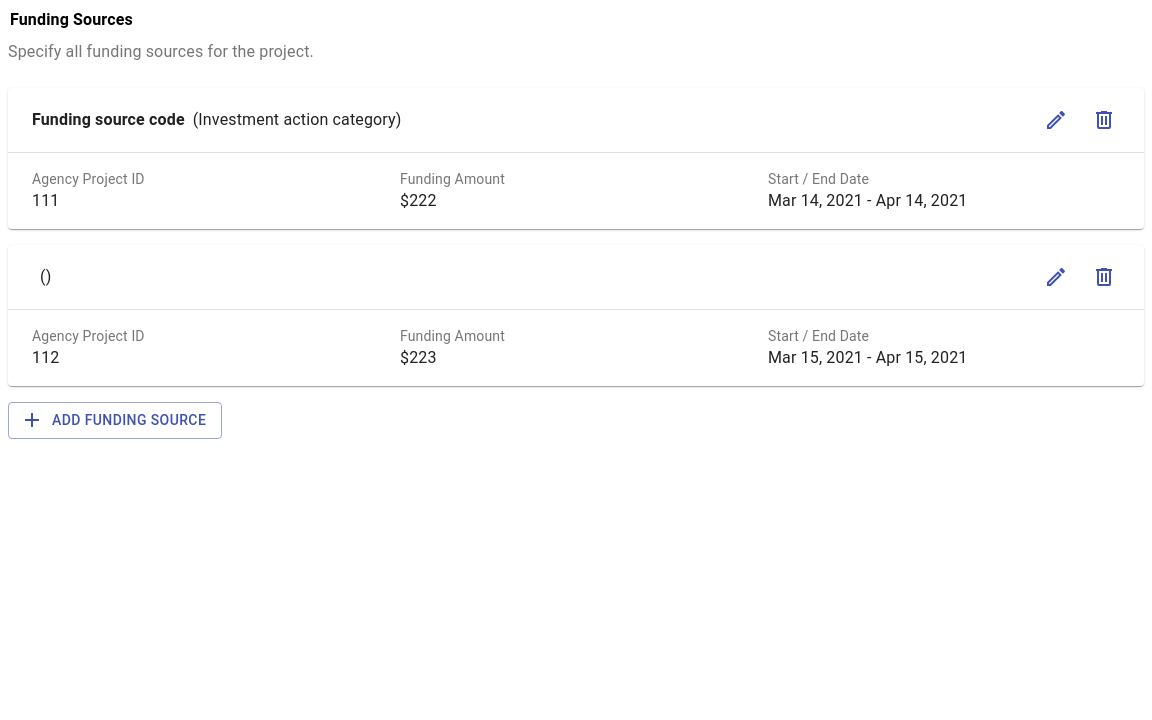
Test: ProjectFundingForm › shows add funding source dialog on add click
The width and height of the screenshot is (1152, 720).
Click the button with test id "add-funding-source-button" at x=115, y=420, box [8, 402, 222, 438]
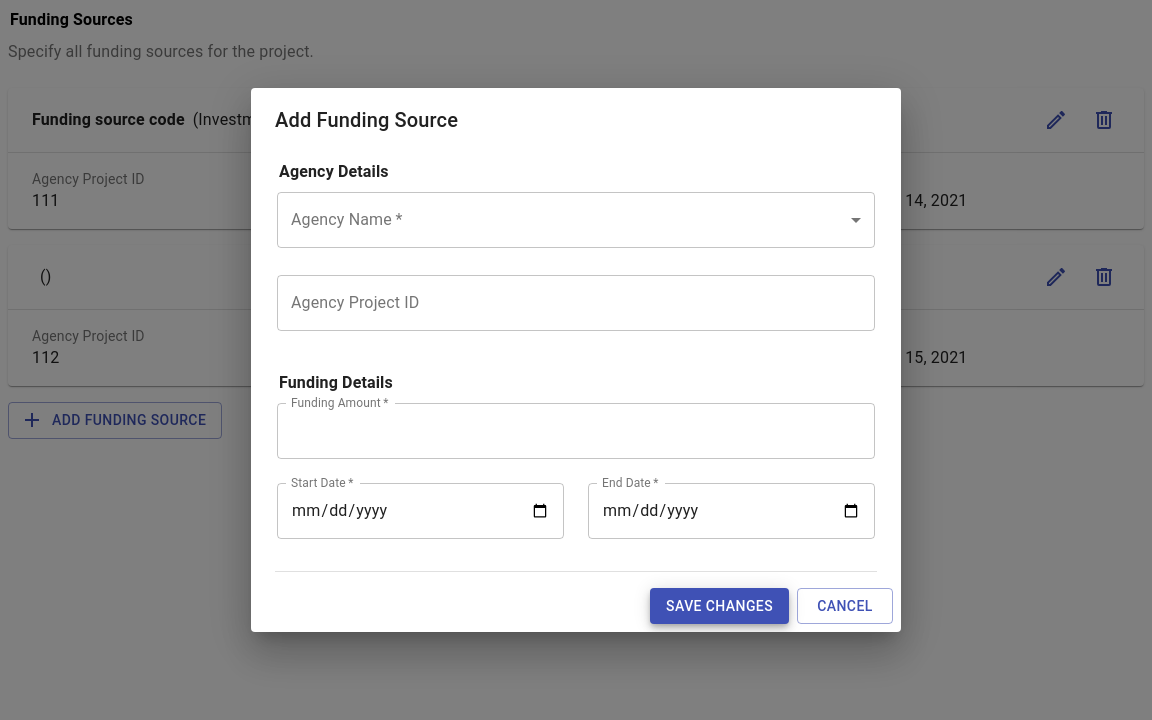
Now the text "Agency Details" is shown, box [277, 160, 391, 184]
